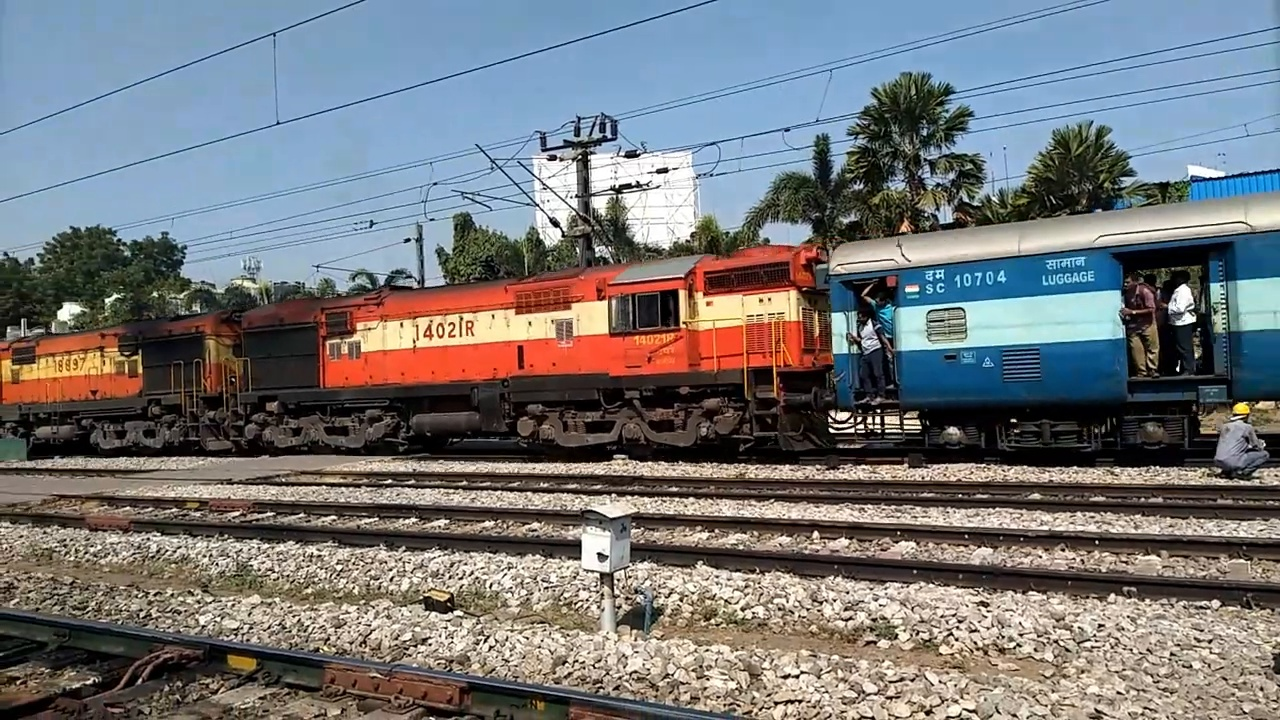Boogie: (950, 270, 1032, 296)
Car Type: (1039, 253, 1098, 289)
Engine: (407, 317, 491, 346)
